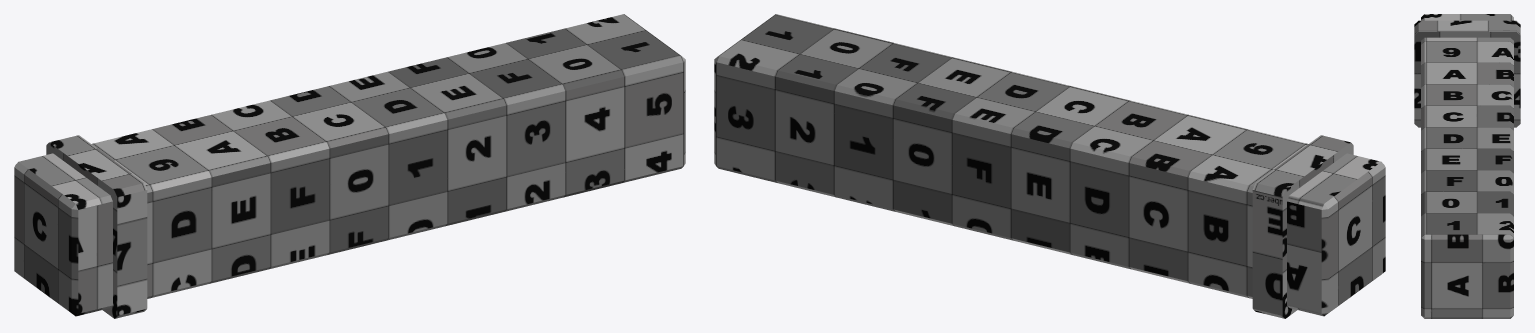
Rendered from Ruin2.fbx.
3 views of the same model, side by side, from view 1: azimuth 30°, elevation 25°; view 2: azimuth 150°, elevation 25°; view 3: azimuth 270°, elevation 25° (orthographic). The views are drawn at different scales.
Visible parts, largest first — view 1: pCube3; view 2: pCube3; view 3: pCube3.
Boxes of the visible parts, bbox=[...] form: pCube3: bbox=[14, 14, 685, 318]; pCube3: bbox=[714, 14, 1385, 318]; pCube3: bbox=[1414, 14, 1520, 318].
Size of the model in its own units: 114 by 22.83 by 22.83.
Materials: 1 (1 with a texture image).
